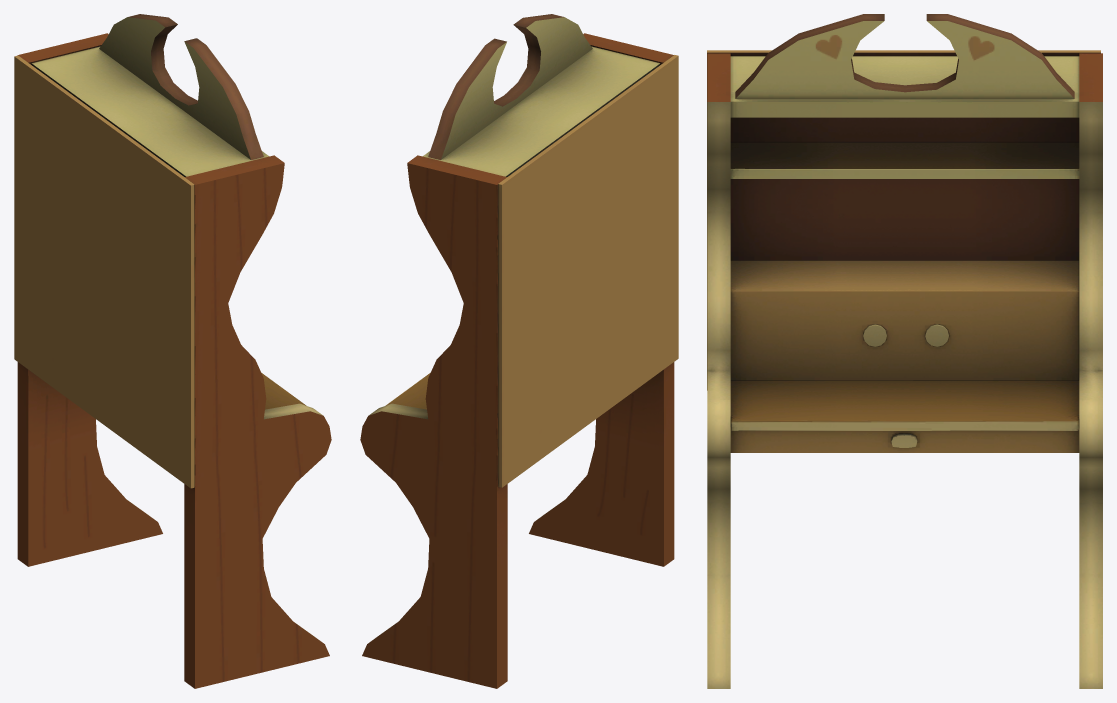
Rendered from bedroom_desk.glb.
3 views of the same model, side by side, from view 1: azimuth 30°, elevation 25°; view 2: azimuth 150°, elevation 25°; view 3: azimuth 270°, elevation 25° (orthographic). The views are drawn at different scales.
Visible parts, largest first — view 1: fc_b_desk.smd; view 2: fc_b_desk.smd; view 3: fc_b_desk.smd.
Part boxes in pixels (left/top/right/bottom): fc_b_desk.smd: left=14, top=14, right=331, bottom=688; fc_b_desk.smd: left=360, top=14, right=678, bottom=688; fc_b_desk.smd: left=707, top=14, right=1102, bottom=688.
Size of the model in its own units: 0.5487 by 2.13 by 1.2.
1 material, 1 textured.
